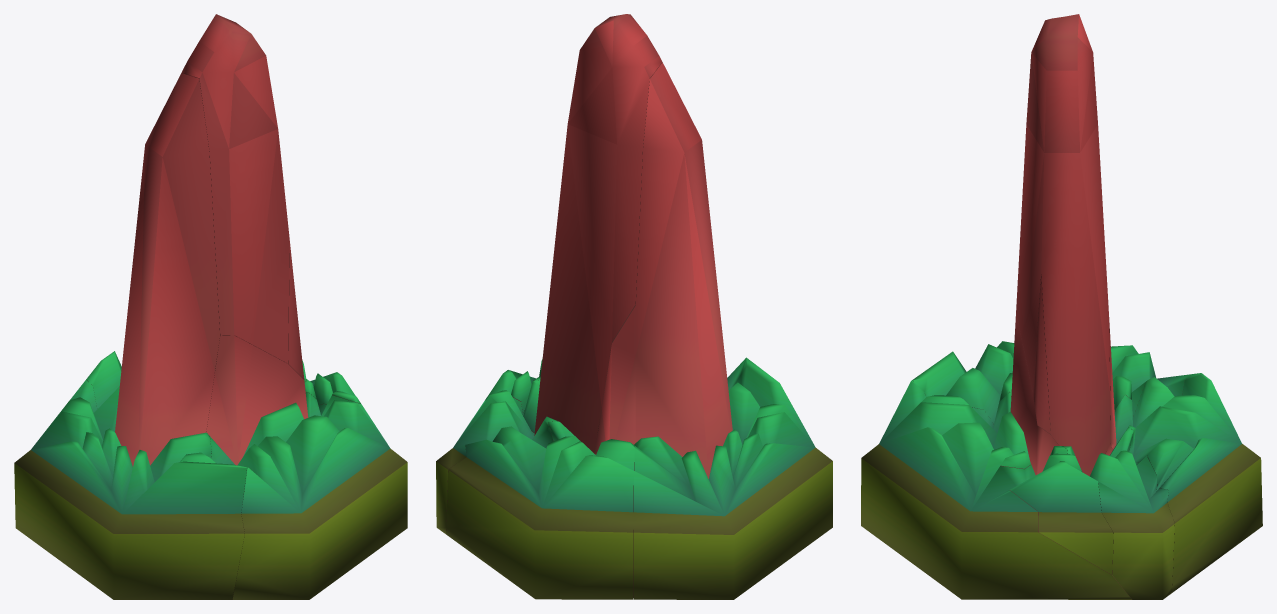
File: E SenueloMeshFracture.fbx
The picture shows the model from 3 angles, left to right: view 1: azimuth 30°, elevation 25°; view 2: azimuth 150°, elevation 25°; view 3: azimuth 270°, elevation 25°; orthographic projection. The views are drawn at different scales.
Parts seen in each view (by area): view 1: Senuelo_cell.003, Senuelo_cell.002, Senuelo_cell.008, Senuelo_cell.001, Senuelo_cell.007, Senuelo_cell; view 2: Senuelo_cell.003, Senuelo_cell.008, Senuelo_cell.001, Senuelo_cell.004, Senuelo_cell, Senuelo_cell.009; view 3: Senuelo_cell.002, Senuelo_cell.008, Senuelo_cell.001, Senuelo_cell.004, Senuelo_cell.003, Senuelo_cell, Senuelo_cell.007.
Part boxes in pixels (box(x1,y1,x2,y2)): Senuelo_cell.003: box(14, 73, 246, 599); Senuelo_cell.002: box(206, 335, 407, 599); Senuelo_cell.008: box(181, 14, 289, 363); Senuelo_cell.001: box(86, 351, 121, 408); Senuelo_cell.007: box(288, 241, 304, 379); Senuelo_cell: box(313, 372, 355, 405); Senuelo_cell.003: box(633, 62, 832, 599); Senuelo_cell.008: box(534, 14, 662, 451); Senuelo_cell.001: box(446, 306, 635, 599); Senuelo_cell.004: box(436, 390, 557, 533); Senuelo_cell: box(485, 370, 531, 413); Senuelo_cell.009: box(523, 380, 540, 432); Senuelo_cell.002: box(861, 311, 1132, 599); Senuelo_cell.008: box(1016, 14, 1110, 476); Senuelo_cell.001: box(1109, 323, 1262, 592); Senuelo_cell.004: box(1081, 426, 1174, 599); Senuelo_cell.003: box(912, 341, 1191, 424); Senuelo_cell: box(1010, 453, 1113, 574); Senuelo_cell.007: box(1033, 275, 1050, 433).
Size of the model in its own units: 504 by 824 by 578.
1 material, 1 textured.
